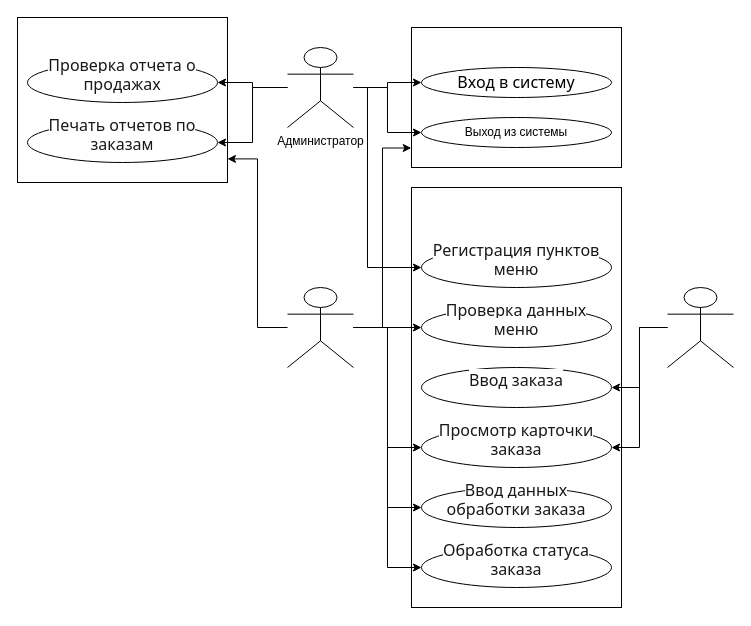
The diagram is 751 pixels wide and 626 high, and some of its shapes have lost their labels. Here are the shapes that lost their labels. From the top down, the box of each, then its label:
(16, 16, 228, 182): Отчеты
(410, 26, 622, 168): Доступ и права
(286, 286, 354, 368): Официант
(666, 286, 734, 368): Клиент
(410, 186, 622, 608): Управление меню и заказами
